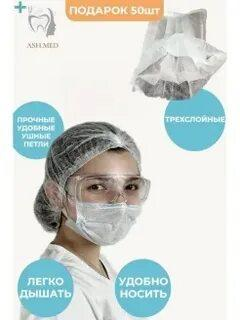hairnet: (28, 105, 141, 225)
mask: (76, 183, 146, 250)
